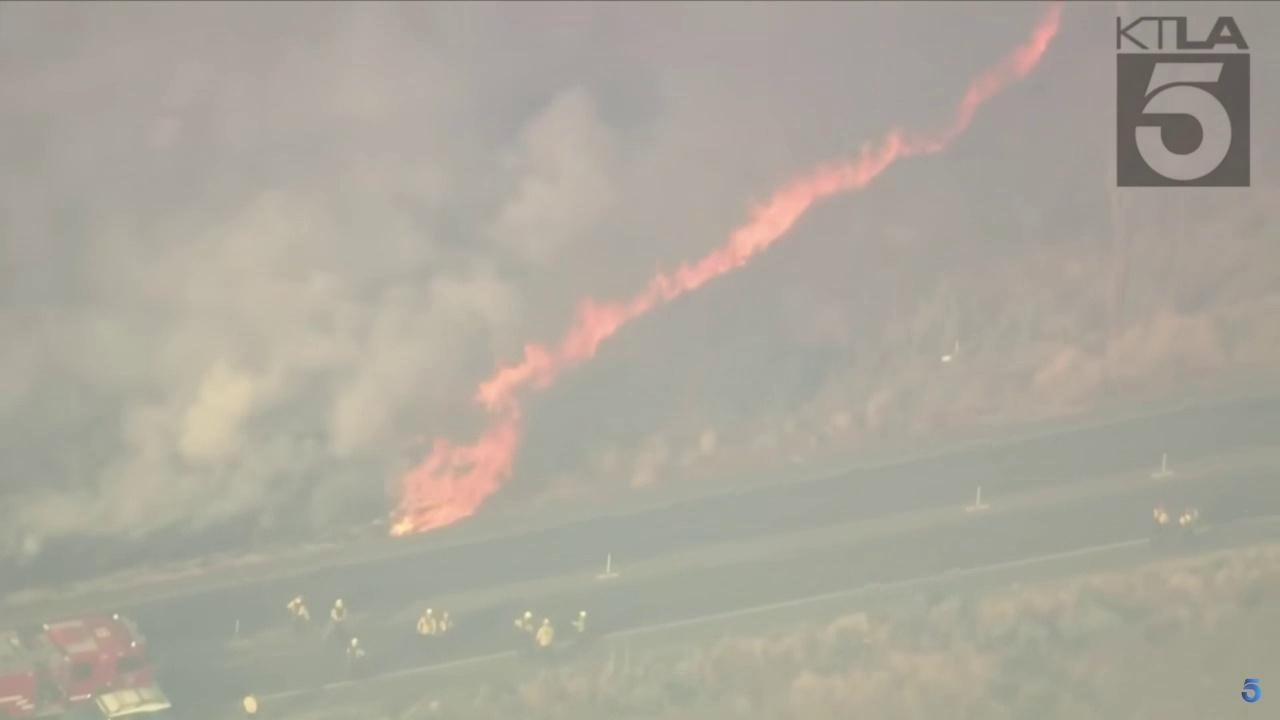fire: (386, 0, 1067, 538)
smoke: (0, 0, 1118, 573)
